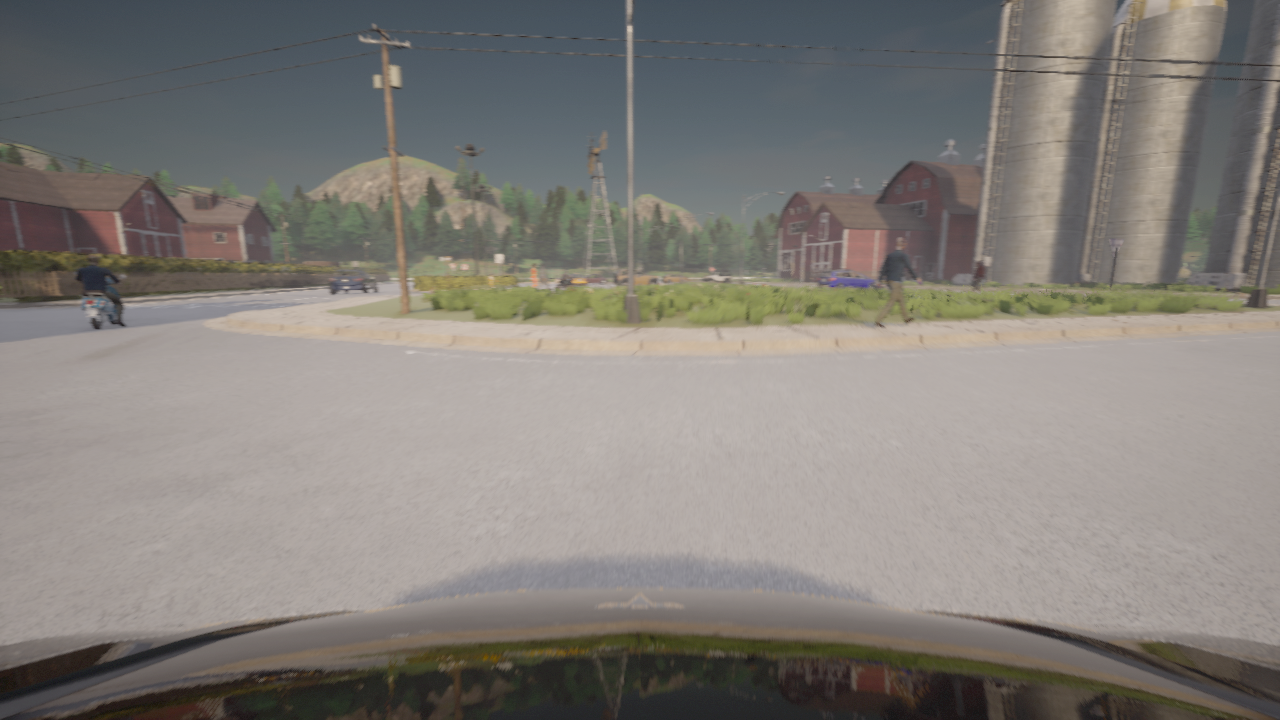cyclist: (0, 588, 1279, 719), (74, 271, 125, 330), (330, 269, 378, 294), (817, 270, 876, 289), (613, 269, 660, 285), (701, 270, 732, 283), (570, 272, 587, 286), (662, 274, 689, 282), (555, 277, 573, 288), (585, 274, 606, 283)
pedestrian: (874, 237, 921, 328), (971, 262, 984, 292), (538, 264, 549, 288), (531, 264, 538, 287), (488, 273, 496, 287)
